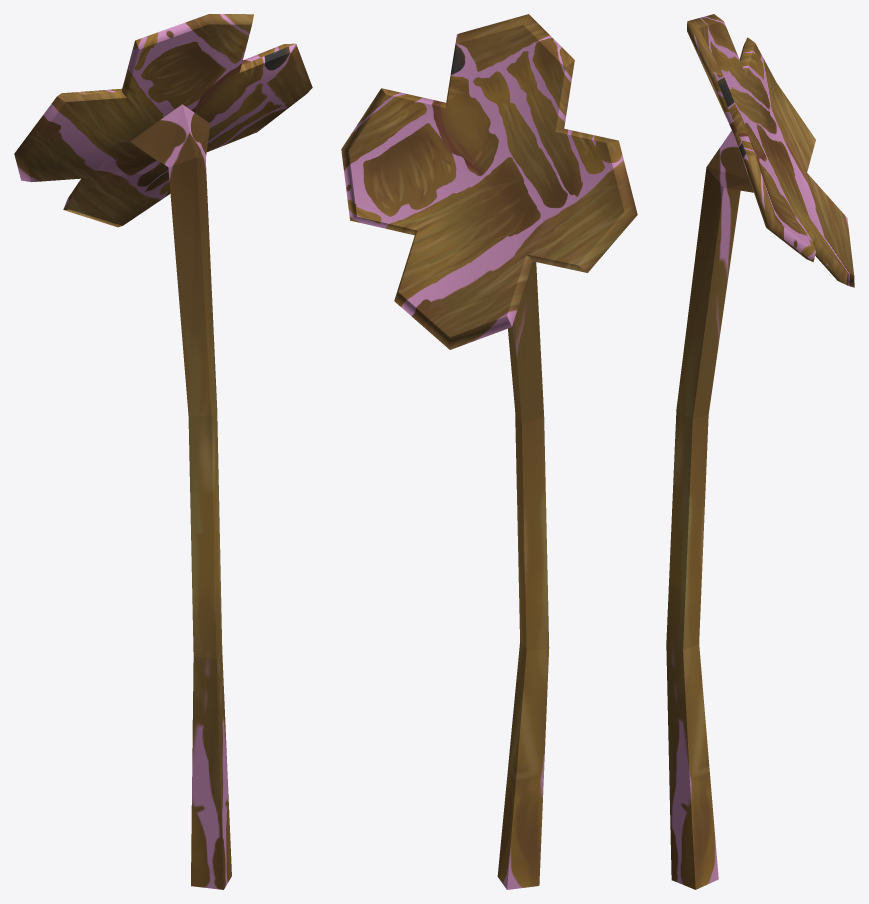
Rendered from Flower_Iteration_1.obj.
The picture shows the model from 3 angles, left to right: view 1: azimuth 30°, elevation 25°; view 2: azimuth 150°, elevation 25°; view 3: azimuth 270°, elevation 25°; orthographic projection.
Visible parts, largest first — view 1: Flower_Iteration_1; view 2: Flower_Iteration_1; view 3: Flower_Iteration_1.
Part boxes in pixels (x1,y1,x2,y2): Flower_Iteration_1: (14,14,312,889); Flower_Iteration_1: (341,14,637,889); Flower_Iteration_1: (666,14,854,889).
Size of the model in its own units: 1.32 by 3.69 by 0.7359.
